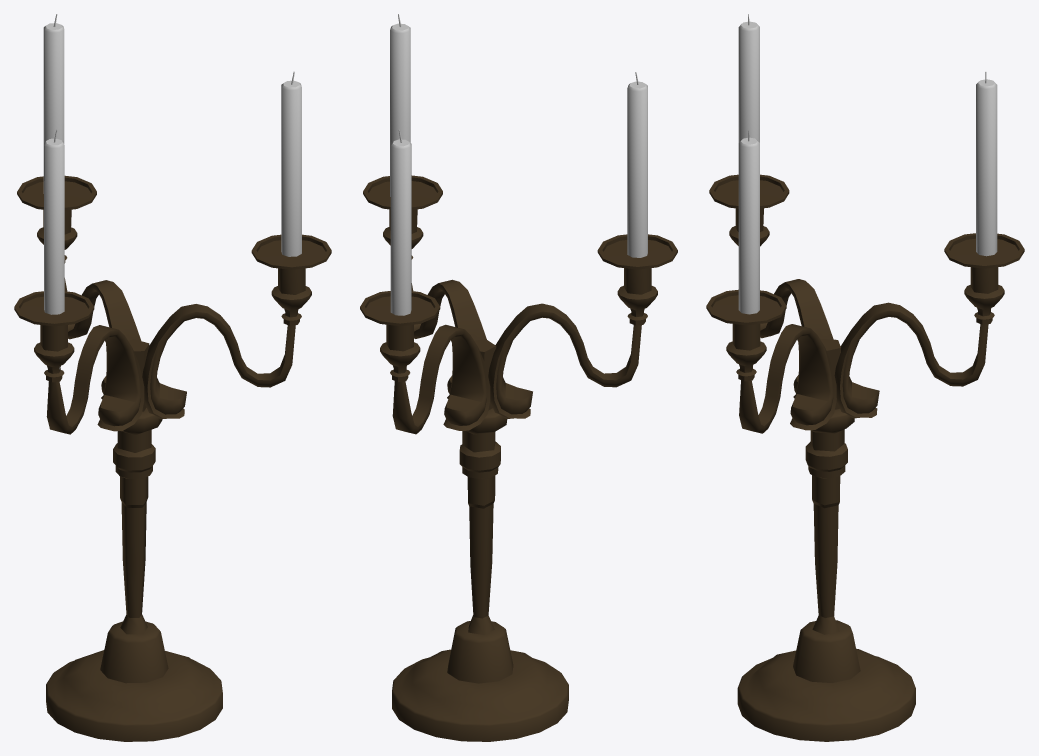
Rendered from JXCS736.FBX.
The picture shows the model from 3 angles, left to right: view 1: azimuth 30°, elevation 25°; view 2: azimuth 150°, elevation 25°; view 3: azimuth 270°, elevation 25°; orthographic projection.
Visible parts, largest first — view 1: JXCS736; view 2: JXCS736; view 3: JXCS736.
Boxes of the visible parts, box(x1,y1,x2,y2) form: JXCS736: box(14, 14, 331, 741); JXCS736: box(360, 14, 677, 741); JXCS736: box(706, 14, 1024, 741).
Bounding box in the file's own units: 18.97 × 17.08 × 37.5.
